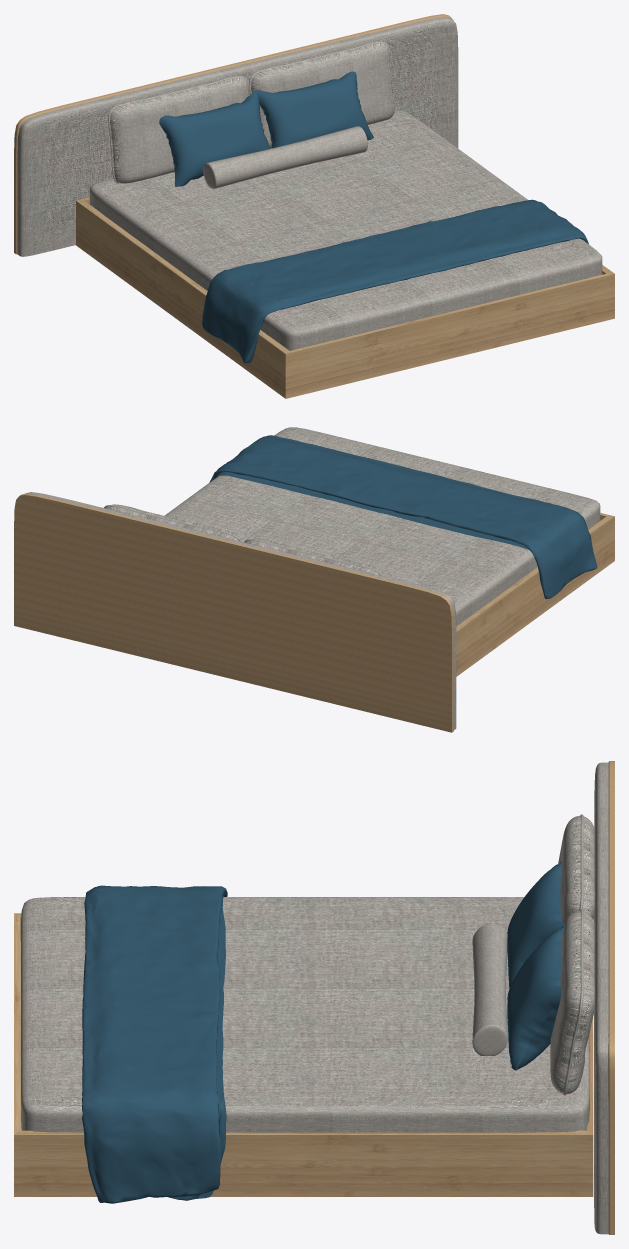
The model's file is bed.fbx.
3 views of the same model, one above another, from view 1: azimuth 30°, elevation 25°; view 2: azimuth 150°, elevation 25°; view 3: azimuth 270°, elevation 25° (orthographic). The views are drawn at different scales.
Parts seen in each view (by area): view 1: polySurface1645; view 2: polySurface1645; view 3: polySurface1645.
Boxes of the visible parts, x1,y1,x2,y2 form: polySurface1645: [14, 14, 614, 398]; polySurface1645: [14, 427, 614, 732]; polySurface1645: [14, 761, 614, 1234].
Bounding box in the file's own units: 30.27 × 9.05 × 25.95.
3 materials, 2 textured.
